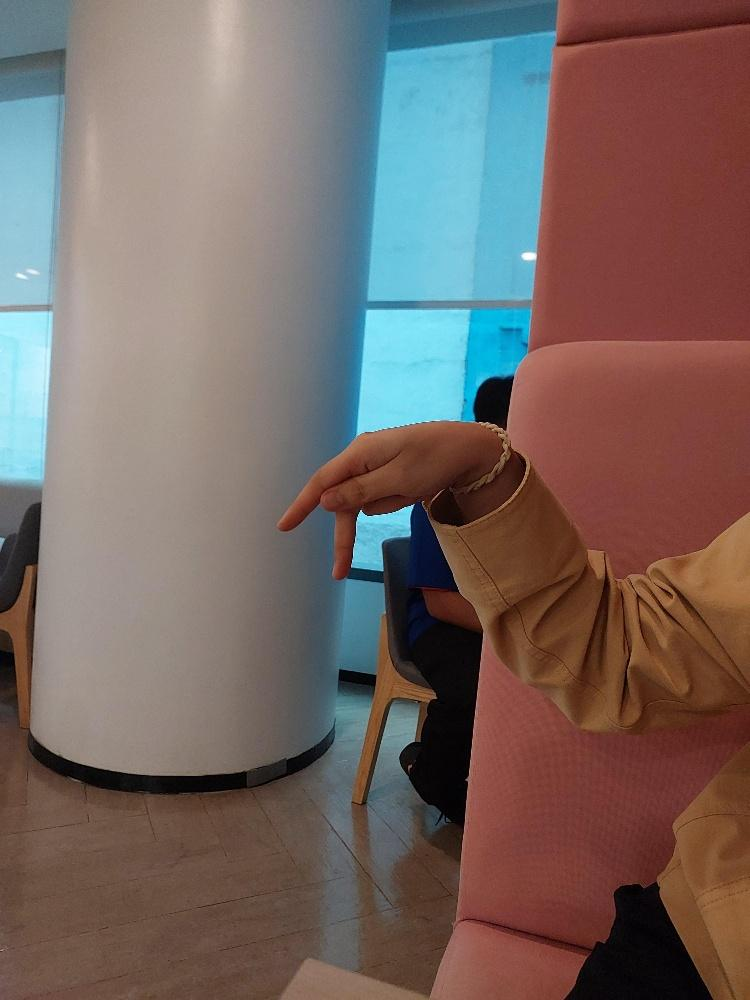p: (272, 415, 526, 585)
